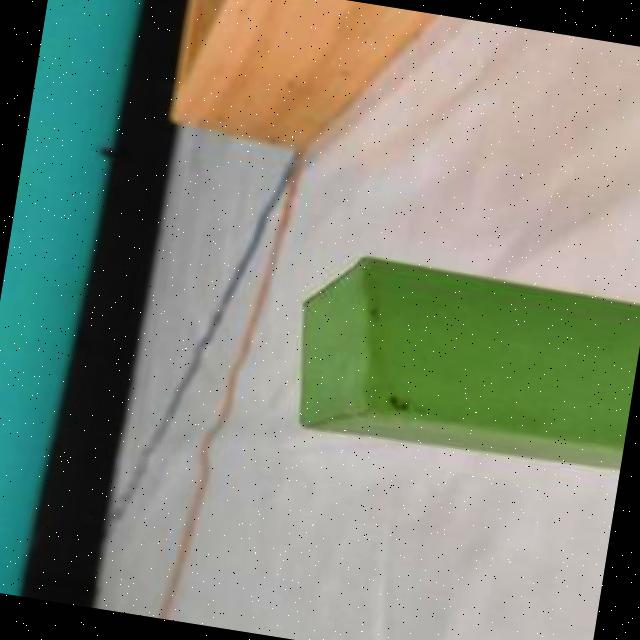greenbox: (279, 245, 640, 483)
